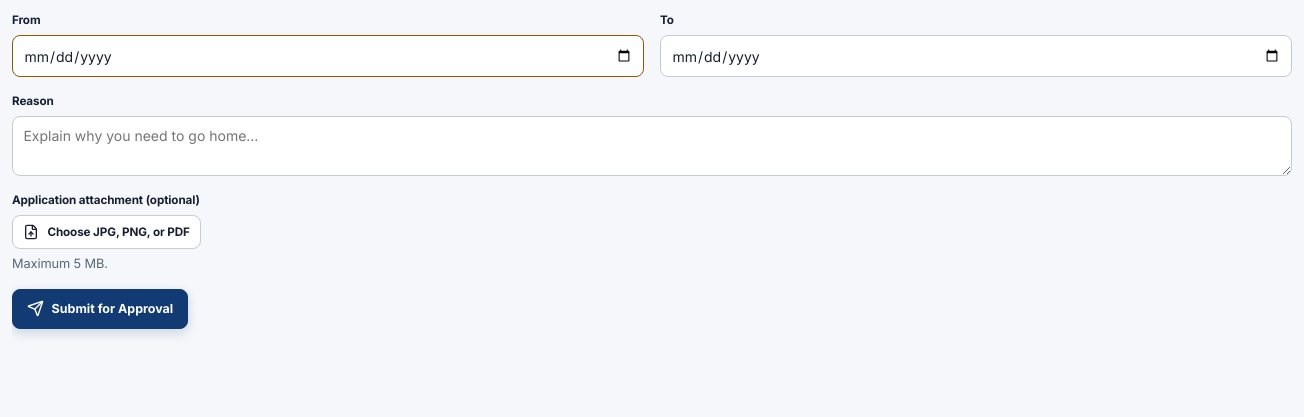
Scenario: LeaveRequestForm › preserves entered fields when the server rejects the leave request
This screenshot has width=1304, height=417.
Type "2026-08-30" into the date field labelled "From".
click(328, 56); type("2026-08-30")  # box [12,35,644,77]
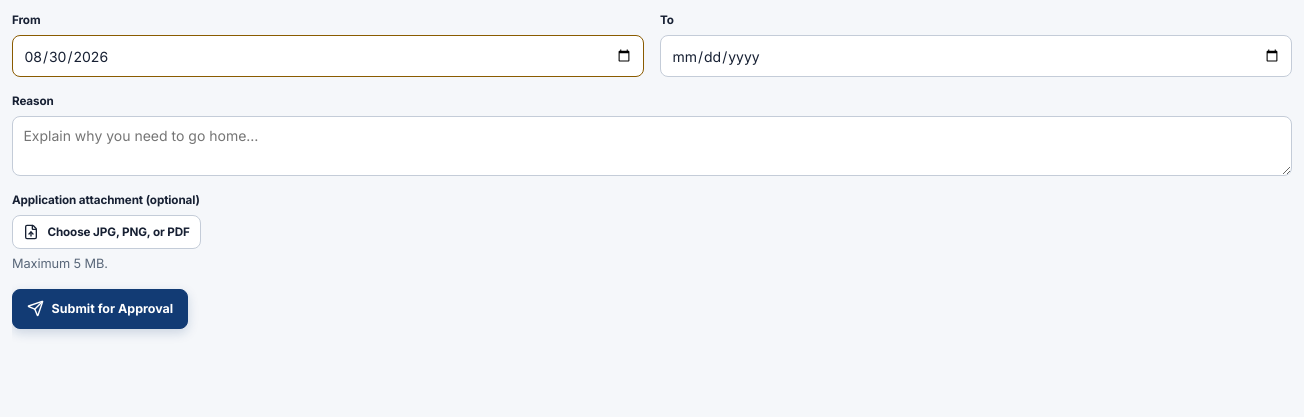
Type "2026-08-31" into the date field labelled "To".
click(976, 56); type("2026-08-31")  # box [660,35,1292,77]
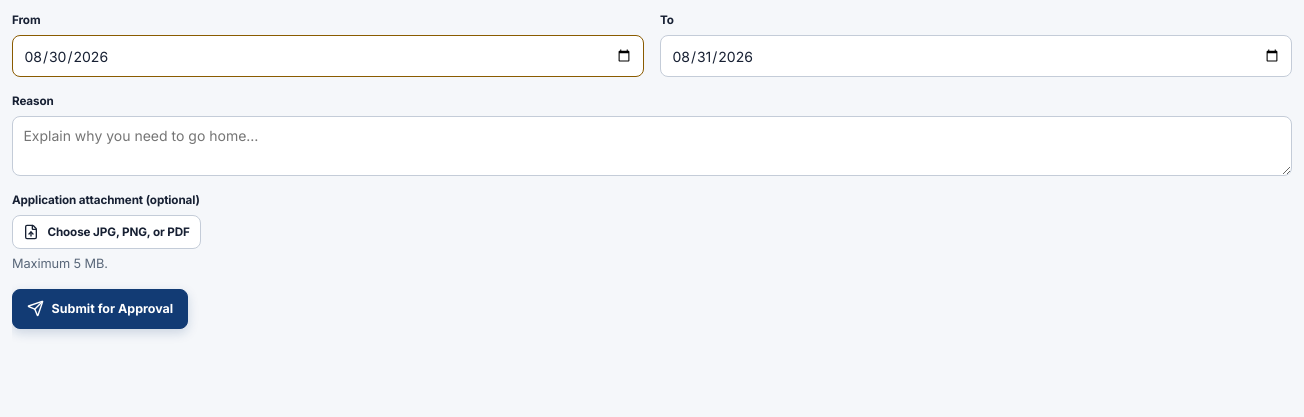
Type "Visiting family for Janmashtami." into the text box labelled "Reason".
click(652, 146); type("Visiting family for Janmashtami.")  # box [12,116,1292,176]
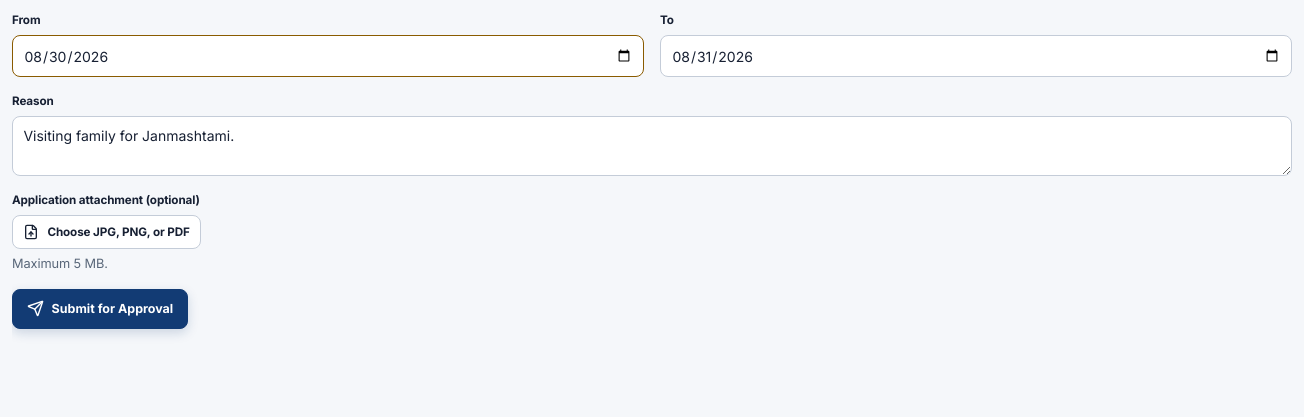
Submit the form named "Submit for Approval"
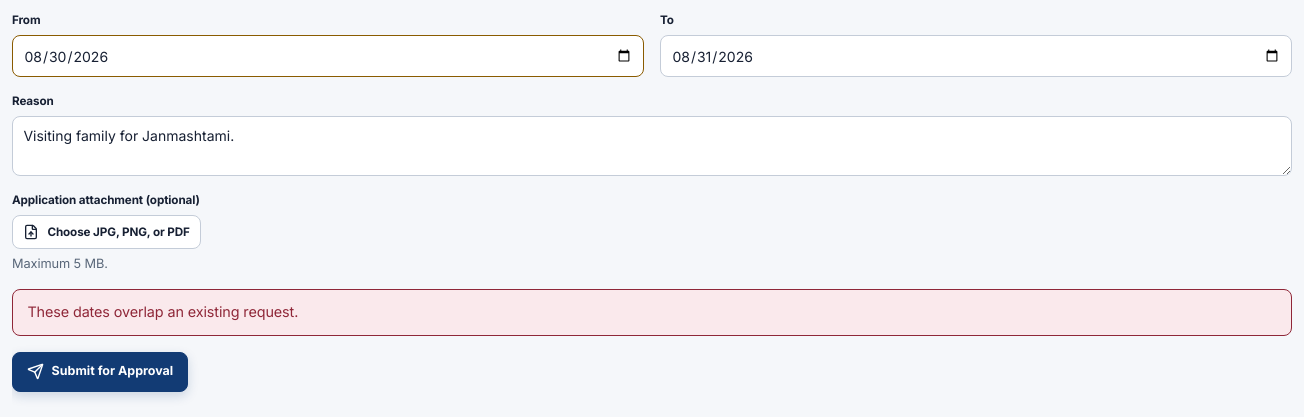
Now the message "These dates overlap an existing request." is shown, box [12,289,1292,336]
